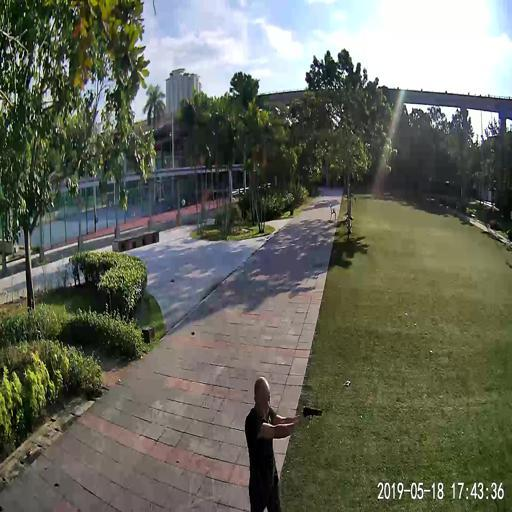Handgun: (300, 401, 322, 420)
